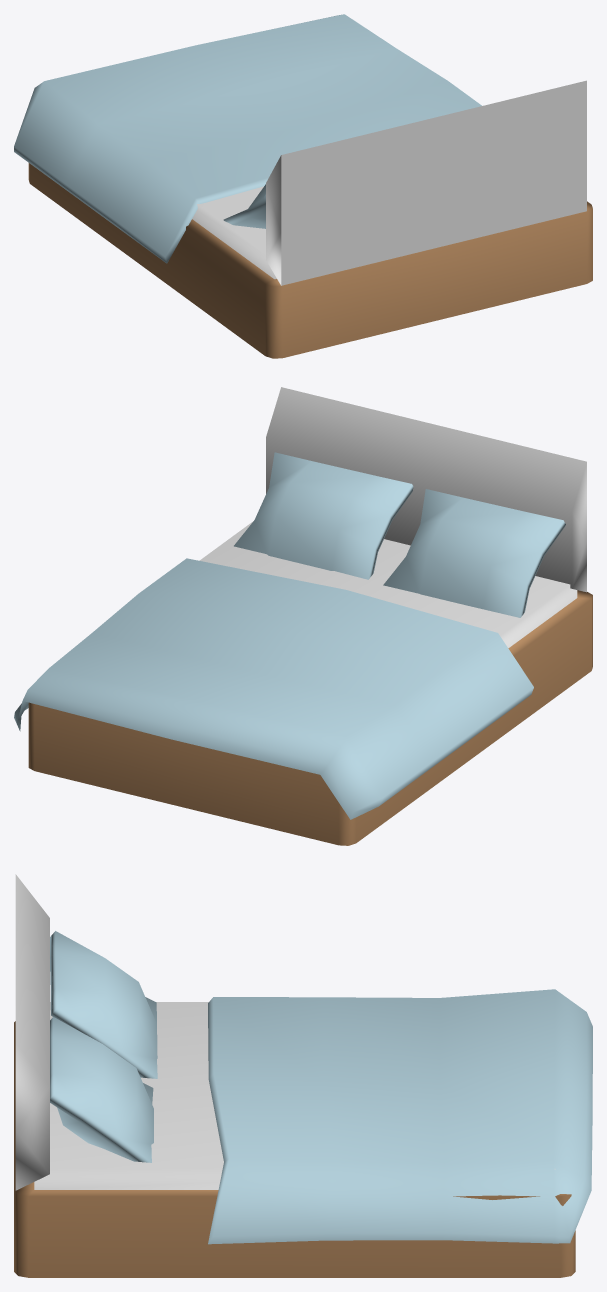
Rendered from bed.fbx.
3 renders of one model, top to bottom at view 1: azimuth 30°, elevation 25°; view 2: azimuth 150°, elevation 25°; view 3: azimuth 270°, elevation 25°, orthographic. The views are drawn at different scales.
Parts seen in each view (by area): view 1: bed; view 2: bed; view 3: bed.
Boxes of the visible parts, box(x1,y1,x2,y2) form: bed: box(14, 14, 592, 358); bed: box(14, 387, 592, 845); bed: box(14, 874, 592, 1277).
Bounding box in the file's own units: 1.41 × 0.7456 × 1.71.
